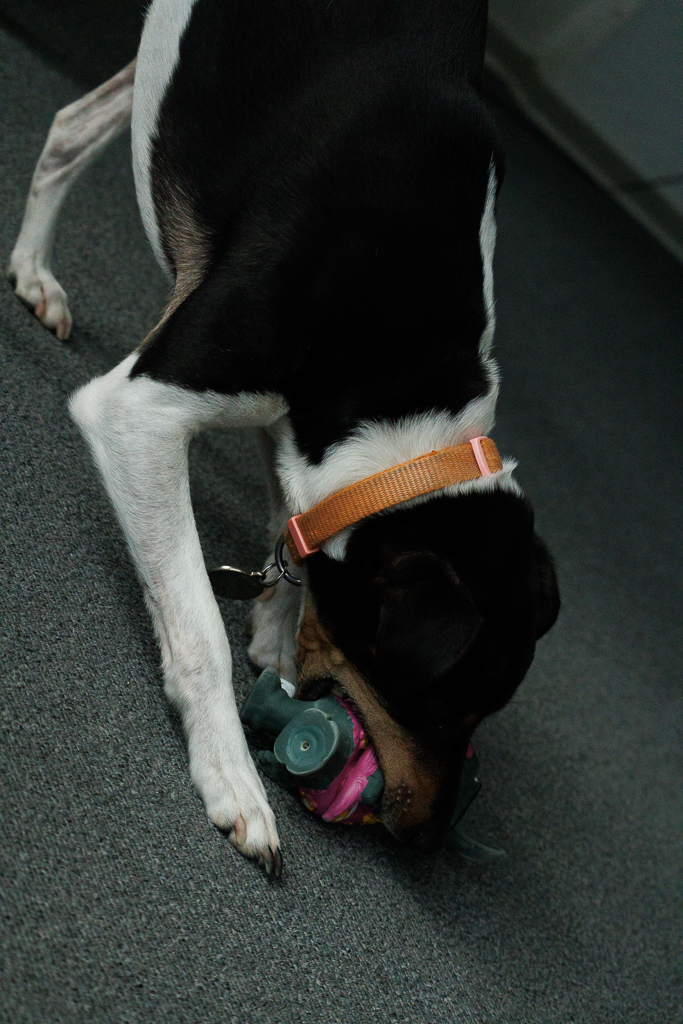Dog: (0, 0, 569, 889)
Humanoid: (231, 659, 511, 876)
